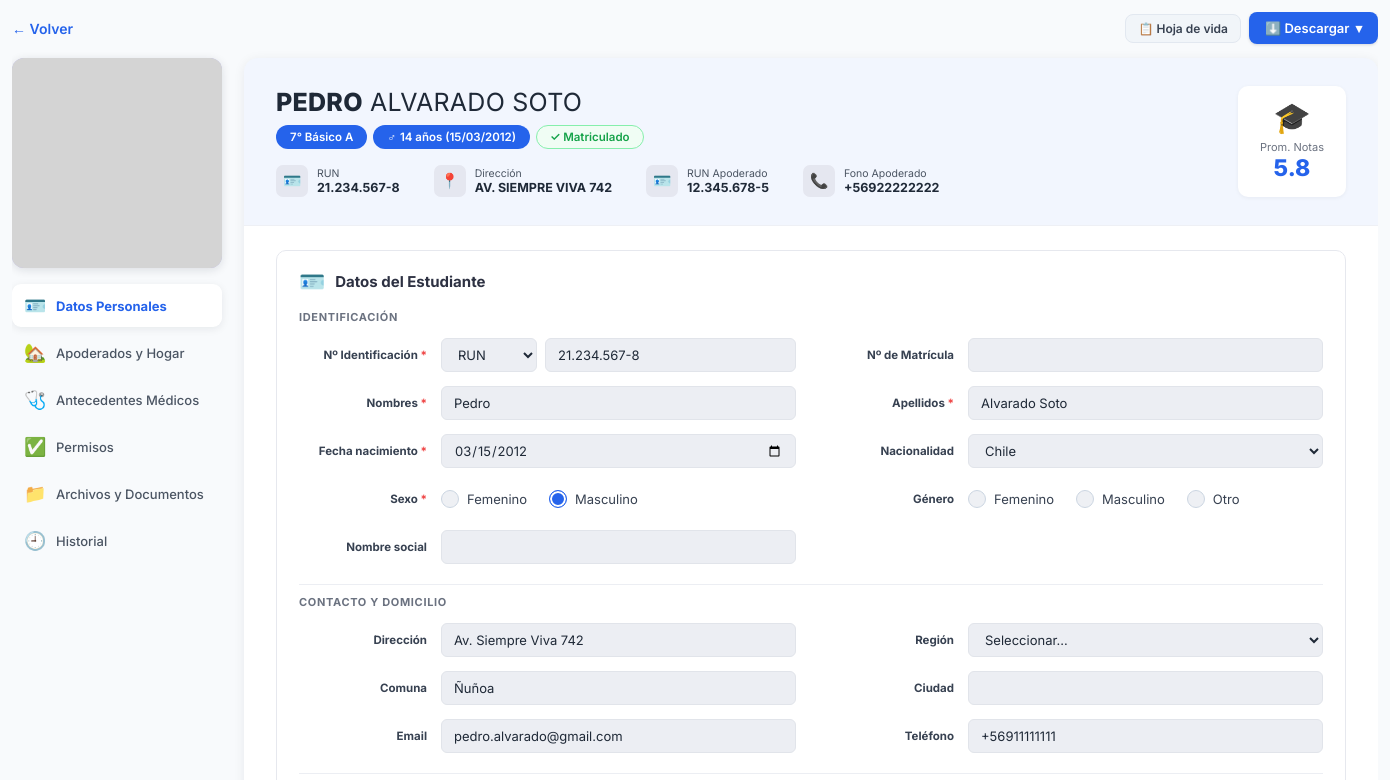
navegar a "Archivos y Documentos" muestra su título
expect the heading "Pedro Alvarado Soto" is shown: met, box [276, 87, 582, 117]
What coordinates should you click on to do the following:
click the button "📁 Archivos y Documentos"
I would click on:
 (117, 494)
Its box is [12, 472, 222, 515].
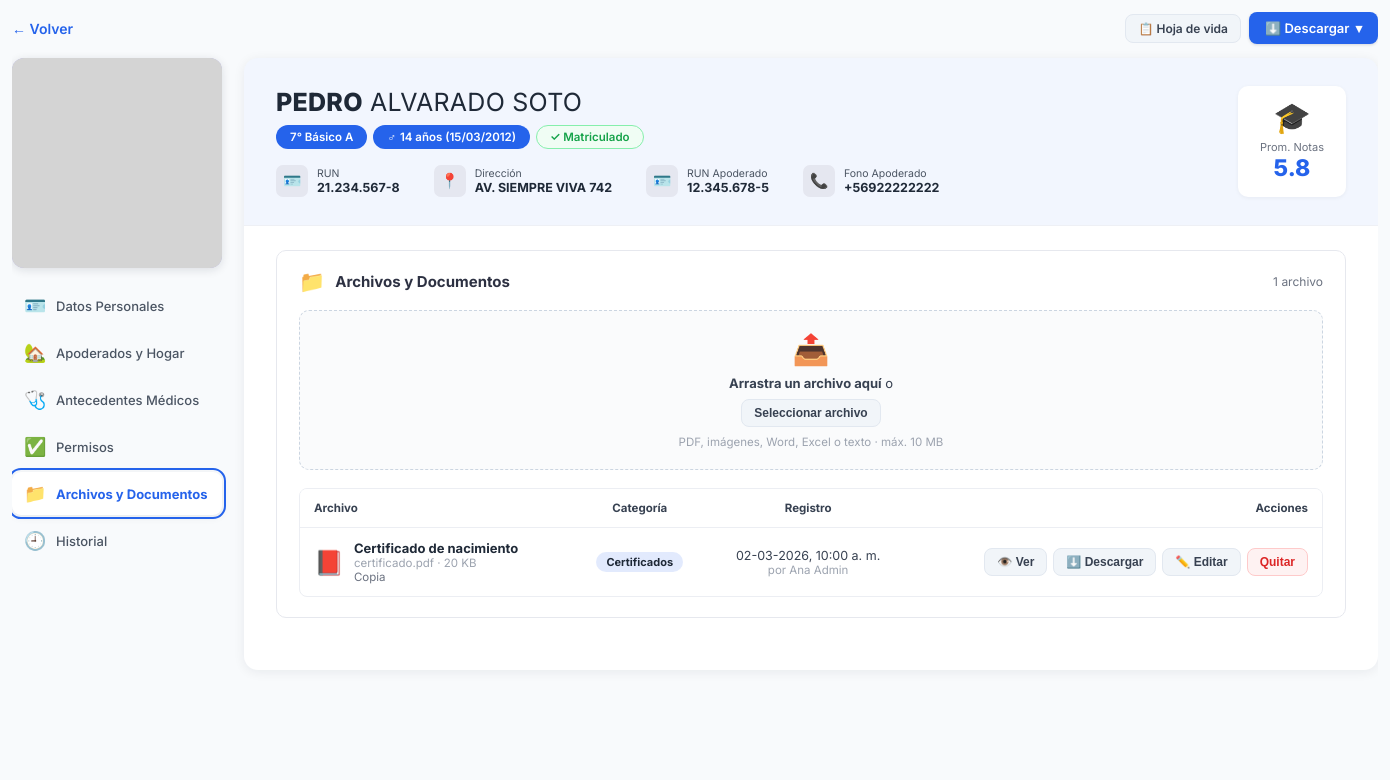
expect the heading "📁 Archivos y Documentos" is shown: met, box [299, 271, 510, 292]
